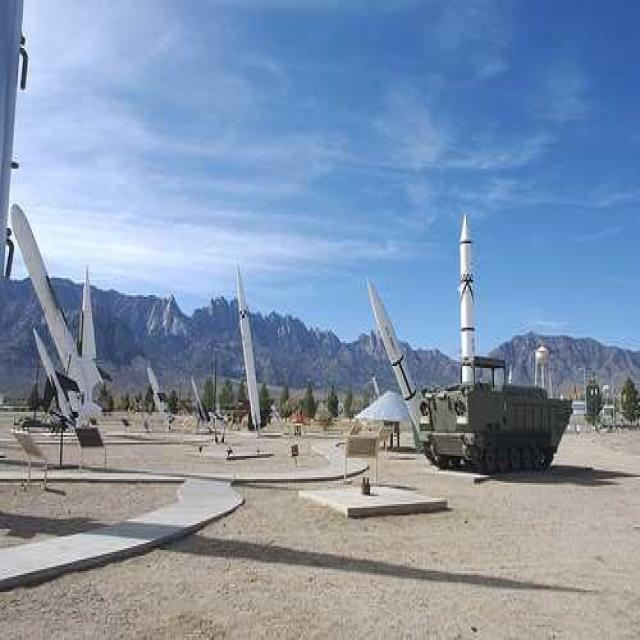missile: (10, 204, 101, 406), (363, 276, 426, 437), (234, 258, 263, 429), (30, 325, 75, 432), (458, 212, 476, 383), (79, 261, 100, 361)
